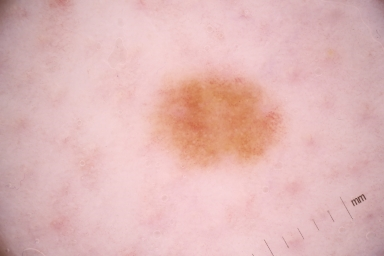melanoma: (171, 74, 282, 168)
